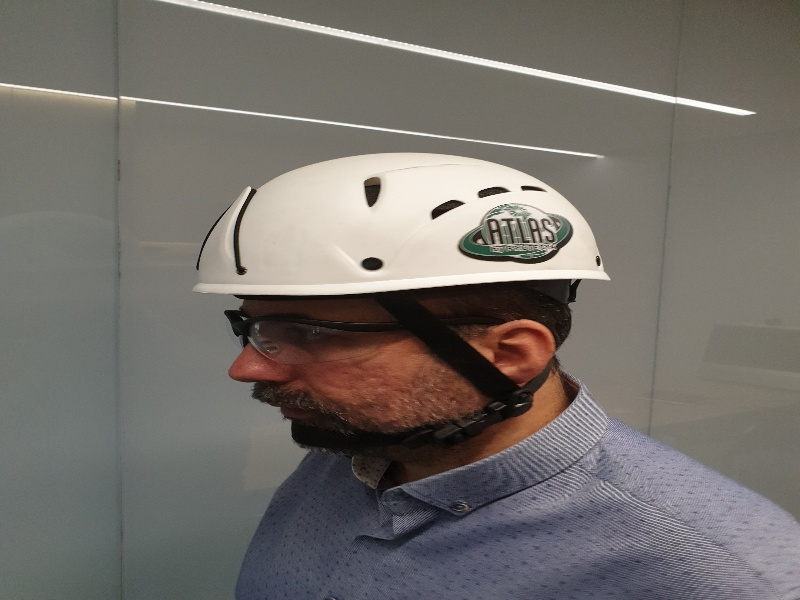Baret: (188, 154, 607, 295)
Gozluk: (224, 308, 508, 356)
